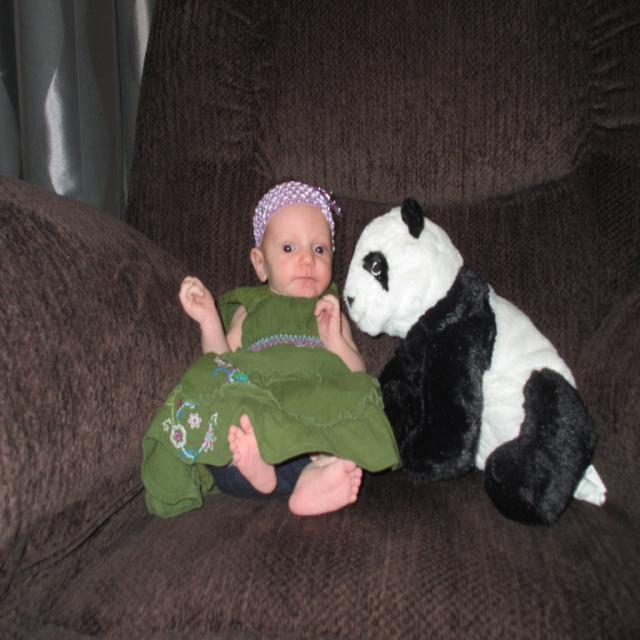panda: (341, 198, 584, 525)
